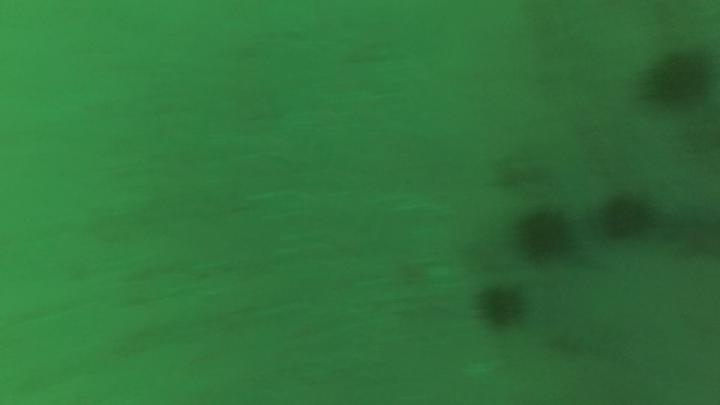echinus: (640, 44, 715, 110), (513, 206, 576, 264), (597, 191, 655, 243), (475, 282, 528, 331)
